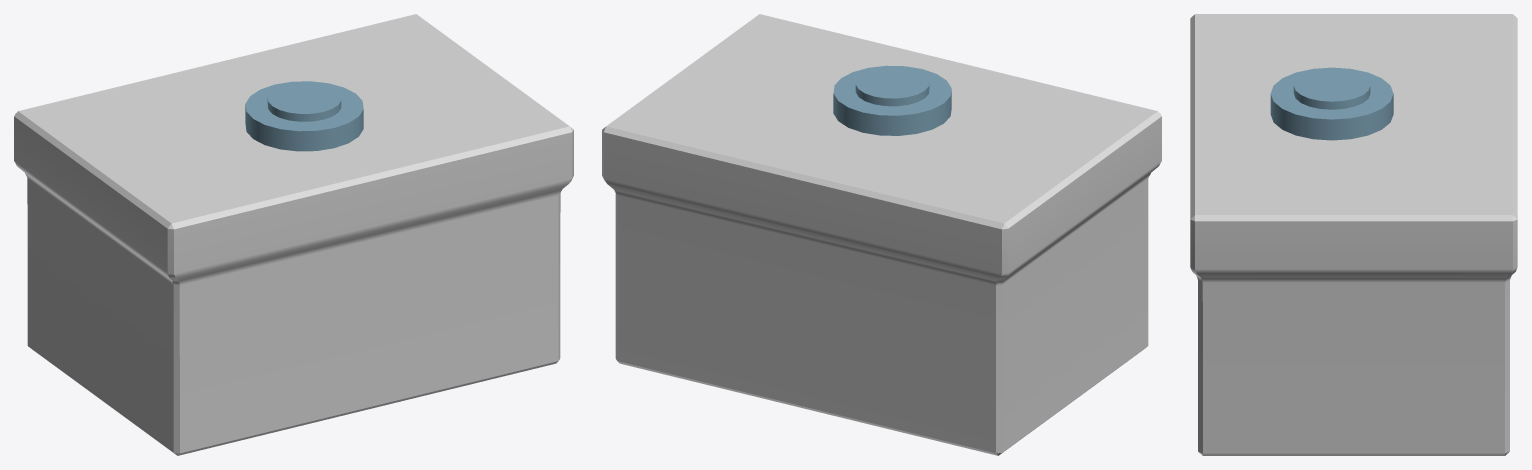
File: CraftingBox.fbx
3 views of the same model, side by side, from view 1: azimuth 30°, elevation 25°; view 2: azimuth 150°, elevation 25°; view 3: azimuth 270°, elevation 25° (orthographic). The views are drawn at different scales.
Visible parts, largest first — view 1: polySurface129, polySurface128, polySurface127; view 2: polySurface129, polySurface128, polySurface127; view 3: polySurface129, polySurface128, polySurface127.
Part boxes in pixels (bbox=[...]): polySurface129: bbox=[14, 14, 573, 455]; polySurface128: bbox=[245, 81, 363, 151]; polySurface127: bbox=[267, 83, 341, 121]; polySurface129: bbox=[602, 14, 1161, 455]; polySurface128: bbox=[833, 65, 951, 135]; polySurface127: bbox=[855, 67, 929, 106]; polySurface129: bbox=[1190, 14, 1517, 455]; polySurface128: bbox=[1270, 67, 1393, 140]; polySurface127: bbox=[1293, 69, 1370, 109].
Size of the model in its own units: 2.25 by 1.41 by 1.52.
